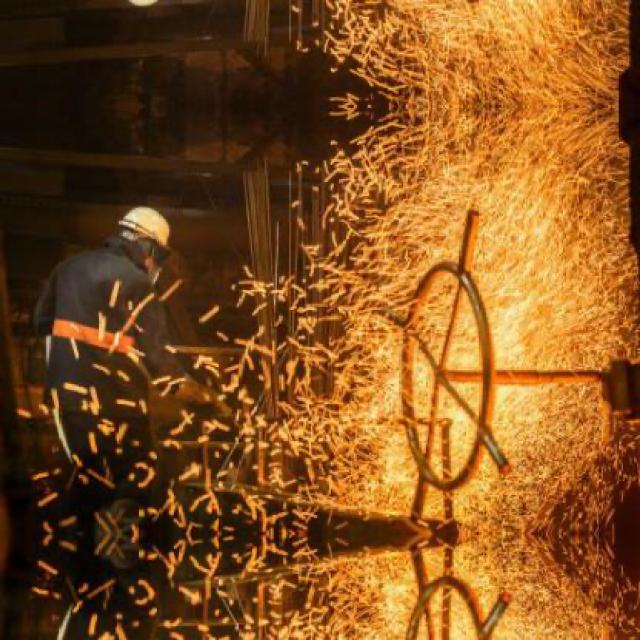helmet: (108, 204, 174, 278)
